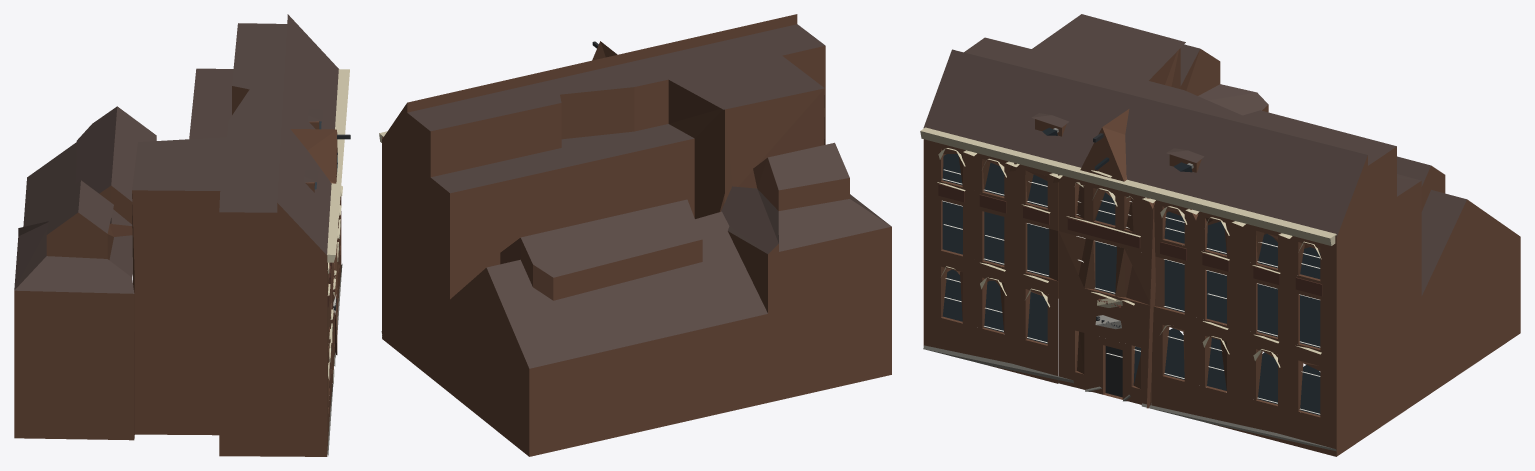
File: perdu.lod1.glb
The picture shows the model from 3 angles, left to right: view 1: azimuth 30°, elevation 25°; view 2: azimuth 150°, elevation 25°; view 3: azimuth 270°, elevation 25°; orthographic projection. The views are drawn at different scales.
Visible parts, largest first — view 1: perdu; view 2: perdu; view 3: perdu.
Part boxes in pixels (box(x1,y1,x2,y2)): perdu: box(14, 14, 350, 456); perdu: box(379, 14, 891, 456); perdu: box(920, 14, 1520, 456).
Bounding box in the file's own units: 26.96 × 15.55 × 30.12.
